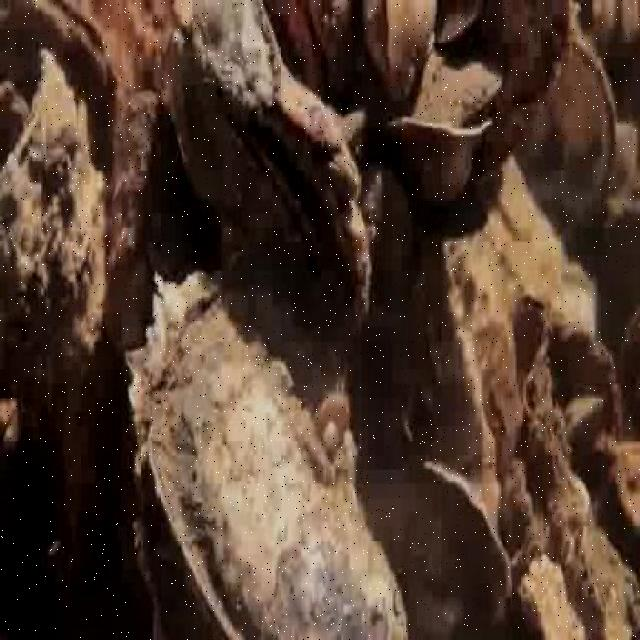Oyster-Closed: (126, 257, 410, 639), (0, 57, 110, 407), (103, 89, 219, 354), (0, 0, 124, 203), (431, 464, 515, 612), (550, 30, 616, 203), (191, 0, 282, 105), (409, 35, 506, 126), (520, 557, 588, 639), (561, 393, 607, 468), (437, 0, 496, 41)
Oyster-Open: (164, 20, 365, 325), (269, 0, 367, 111), (362, 0, 436, 85)
